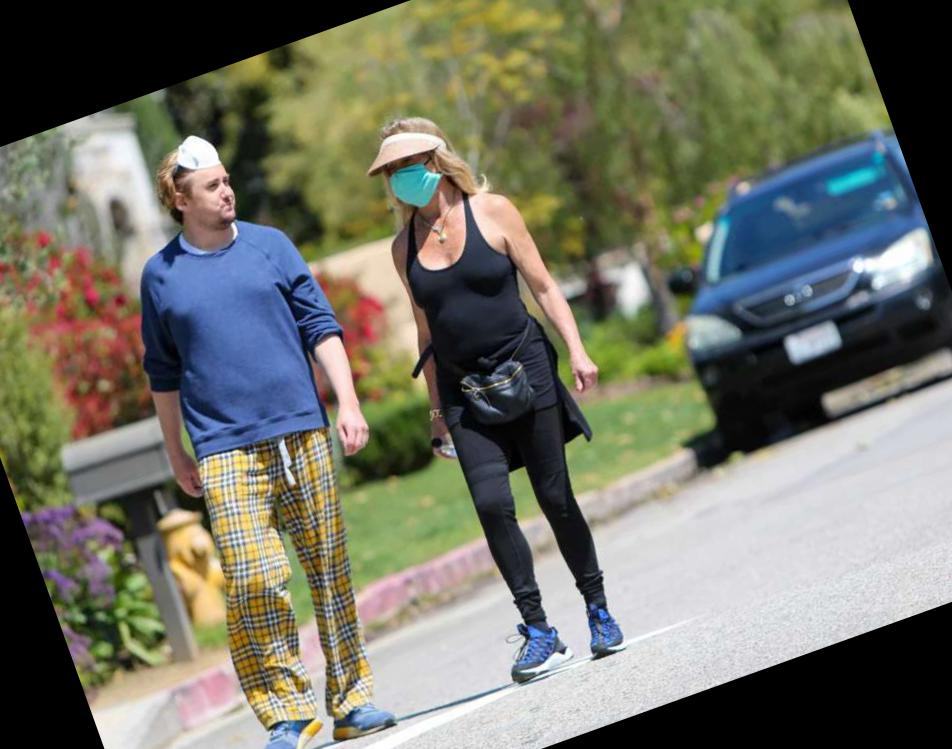mask_weared_incorrect: (176, 147, 249, 237)
with_mask: (380, 150, 444, 208)
